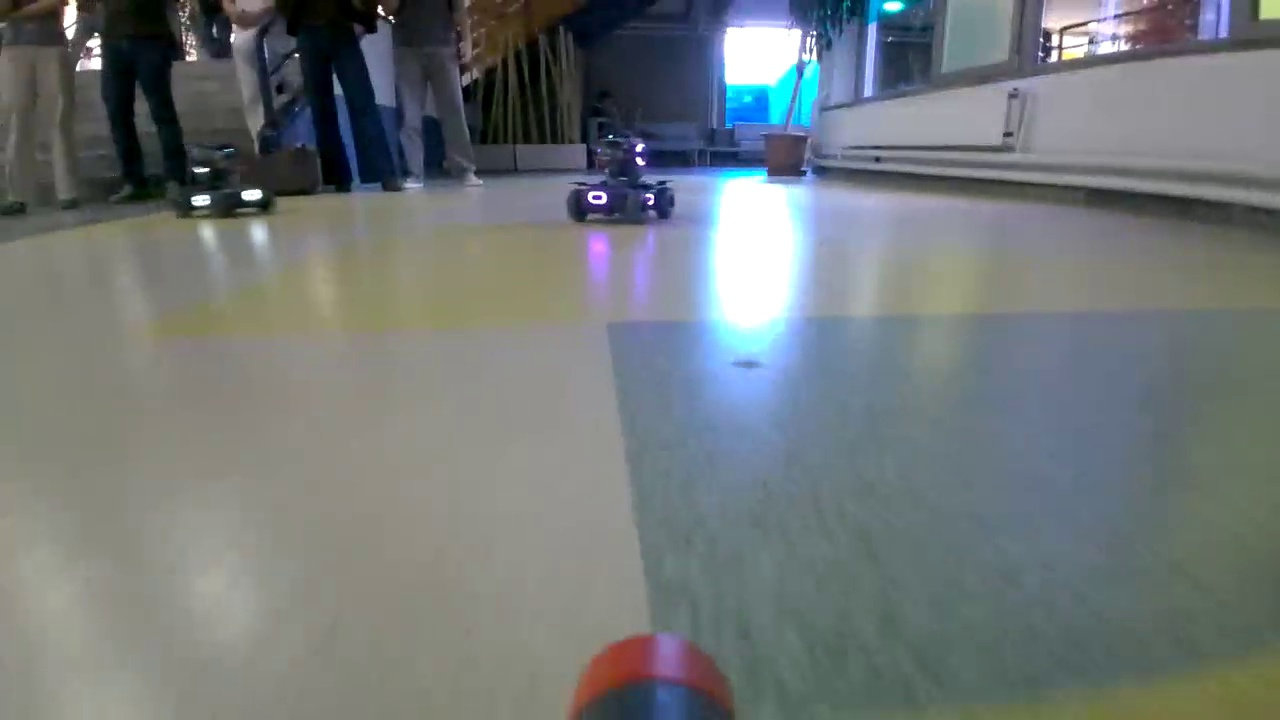robot: (562, 132, 676, 223), (169, 143, 277, 219)
